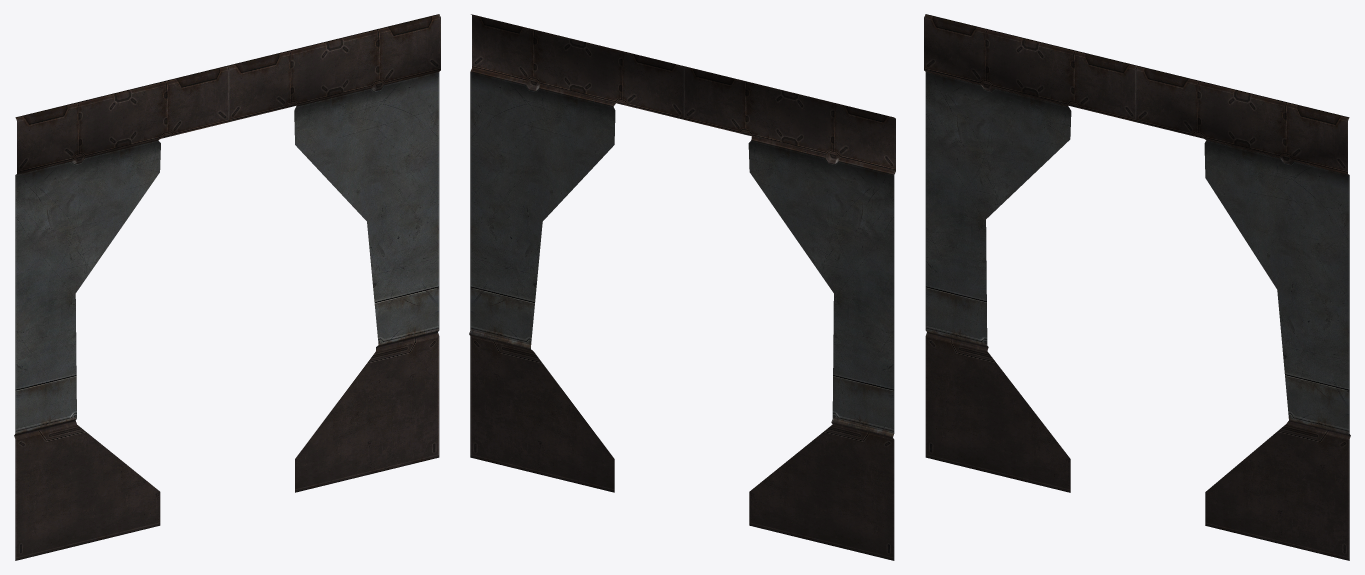
File: datasite_flat_doorway_airlock_brown.dae
3 views of the same model, side by side, from view 1: azimuth 30°, elevation 25°; view 2: azimuth 150°, elevation 25°; view 3: azimuth 330°, elevation 25° (orthographic).
Parts seen in each view (by area): view 1: polySurface134; view 2: polySurface134; view 3: polySurface134.
Boxes of the visible parts, x1,y1,x2,y2 form: polySurface134: [14, 14, 440, 560]; polySurface134: [469, 14, 895, 560]; polySurface134: [924, 14, 1350, 560].
Size of the model in its own units: 4 by 4 by 0.0483.
Materials: 1 (1 with a texture image).
